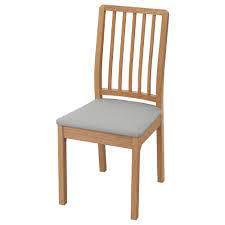chair: (50, 3, 177, 219)
